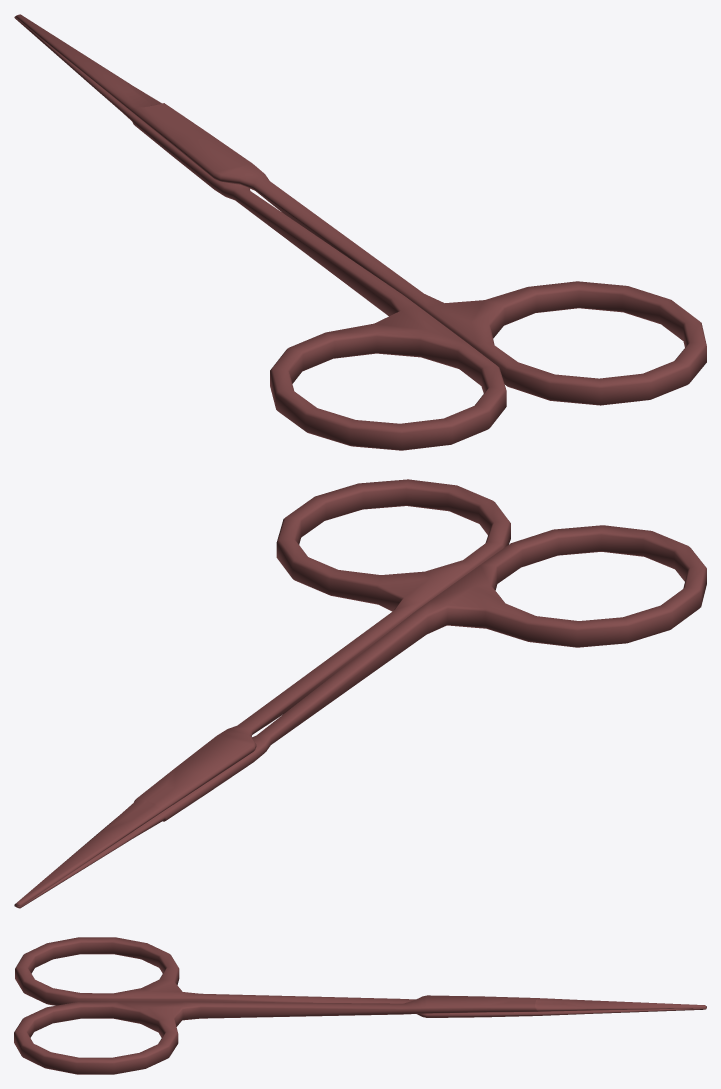
The model's file is Scissors.fbx.
3 views of the same model, one above another, from view 1: azimuth 30°, elevation 25°; view 2: azimuth 150°, elevation 25°; view 3: azimuth 270°, elevation 25° (orthographic). The views are drawn at different scales.
Visible parts, largest first — view 1: Scissors; view 2: Scissors; view 3: Scissors.
Boxes of the visible parts, <box> form: Scissors: <box>14,14,706,450</box>; Scissors: <box>14,479,706,908</box>; Scissors: <box>14,937,706,1074</box>.
Size of the model in its own units: 3.9 by 9.24 by 0.2225.
